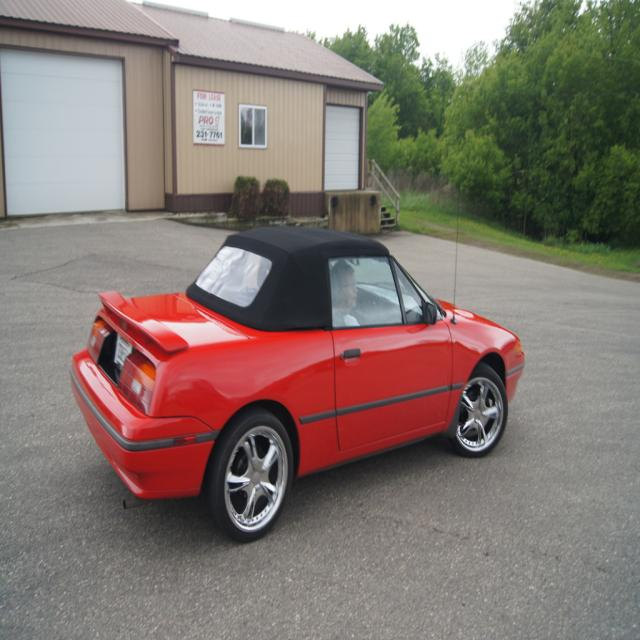car: (69, 225, 527, 545)
